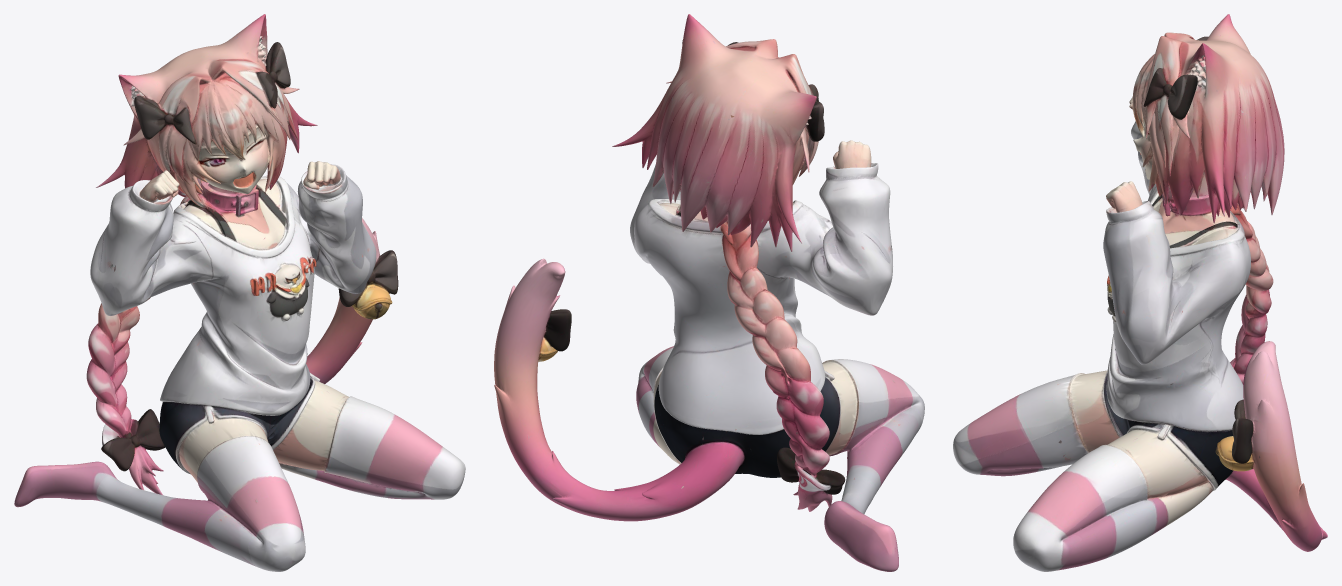
The model's file is astolfo4.glb.
3 renders of one model, left to right at view 1: azimuth 30°, elevation 25°; view 2: azimuth 150°, elevation 25°; view 3: azimuth 270°, elevation 25°, orthographic. The views are drawn at different scales.
Bounding box in the file's own units: 1.63 × 1.9 × 1.34.
Materials: 1 (1 with a texture image).
